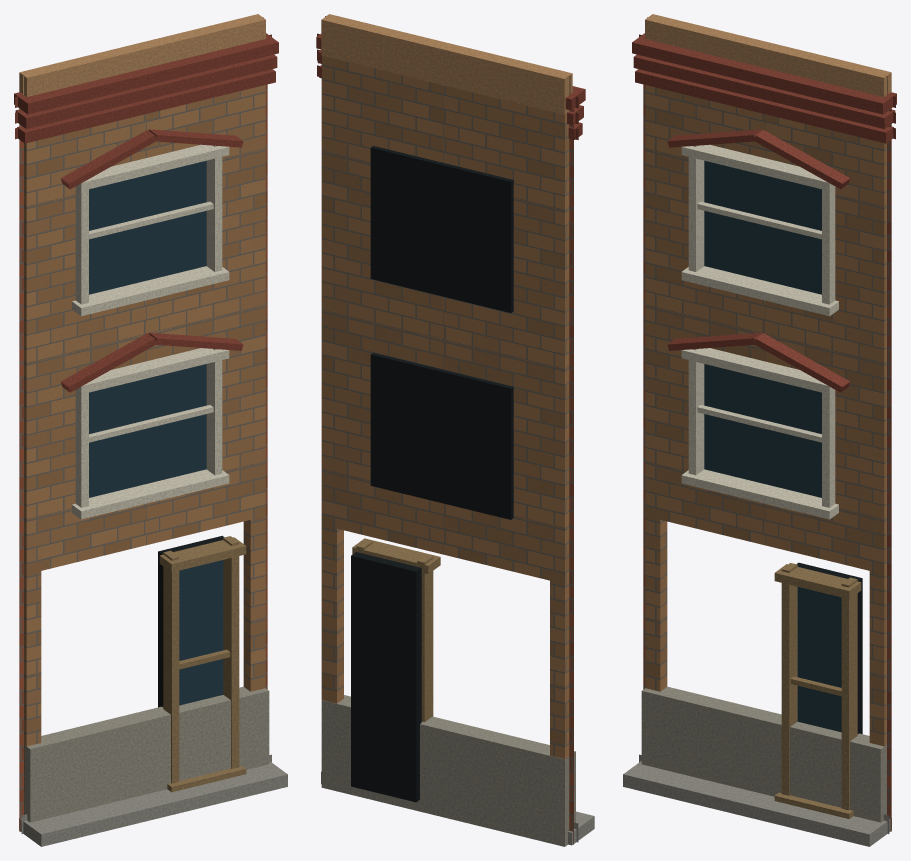
Rendered from VICT1A_lod2.glb.
3 views of the same model, side by side, from view 1: azimuth 30°, elevation 25°; view 2: azimuth 150°, elevation 25°; view 3: azimuth 330°, elevation 25° (orthographic).
Parts seen in each view (by area): view 1: VICT1A_FRONT_LOD2; view 2: VICT1A_FRONT_LOD2; view 3: VICT1A_FRONT_LOD2.
Boxes of the visible parts, bbox=[...] form: VICT1A_FRONT_LOD2: bbox=[14, 14, 287, 846]; VICT1A_FRONT_LOD2: bbox=[316, 14, 594, 846]; VICT1A_FRONT_LOD2: bbox=[623, 14, 896, 846].
Bounding box in the file's own units: 3.44 × 9.66 × 0.68.
11 materials, 9 textured.
